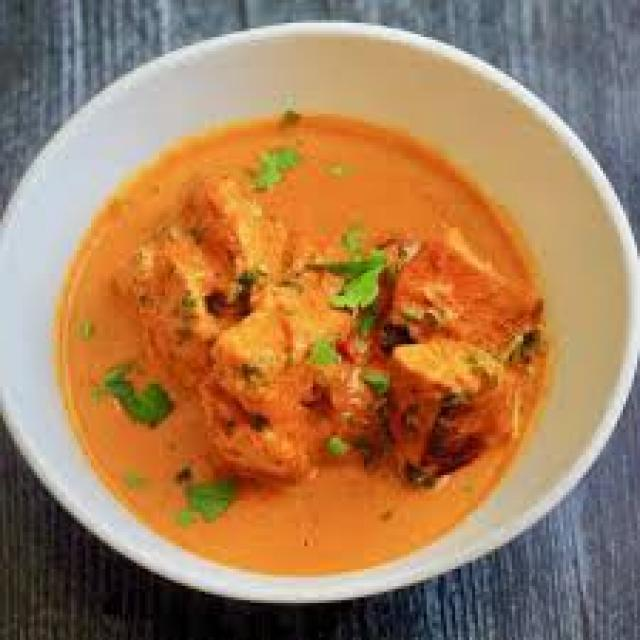Butter Chicken: (55, 118, 548, 579)
